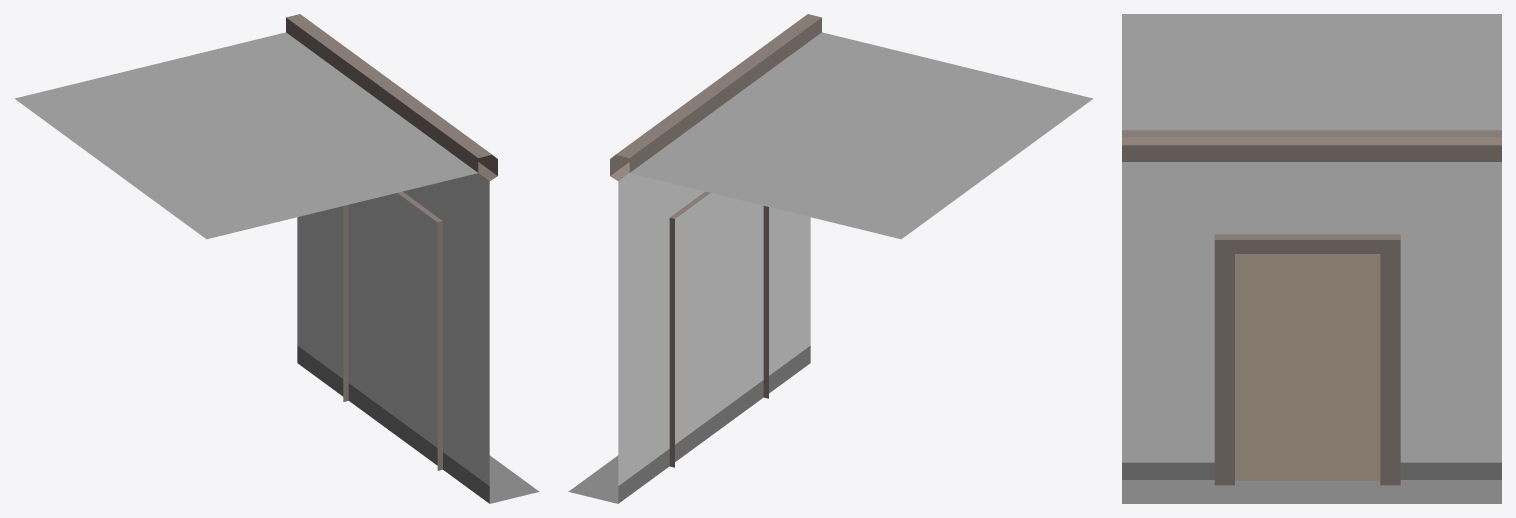
The model's file is house_edge2_mesh.fbx.
The picture shows the model from 3 angles, left to right: view 1: azimuth 30°, elevation 25°; view 2: azimuth 150°, elevation 25°; view 3: azimuth 270°, elevation 25°; orthographic projection.
Parts seen in each view (by area): view 1: house_edge2_mesh; view 2: house_edge2_mesh; view 3: house_edge2_mesh.
Part boxes in pixels (x1,y1,x2,y2): house_edge2_mesh: [14, 14, 539, 503]; house_edge2_mesh: [568, 14, 1093, 503]; house_edge2_mesh: [1122, 14, 1501, 503].
Bounding box in the file's own units: 1 × 1 × 1.
